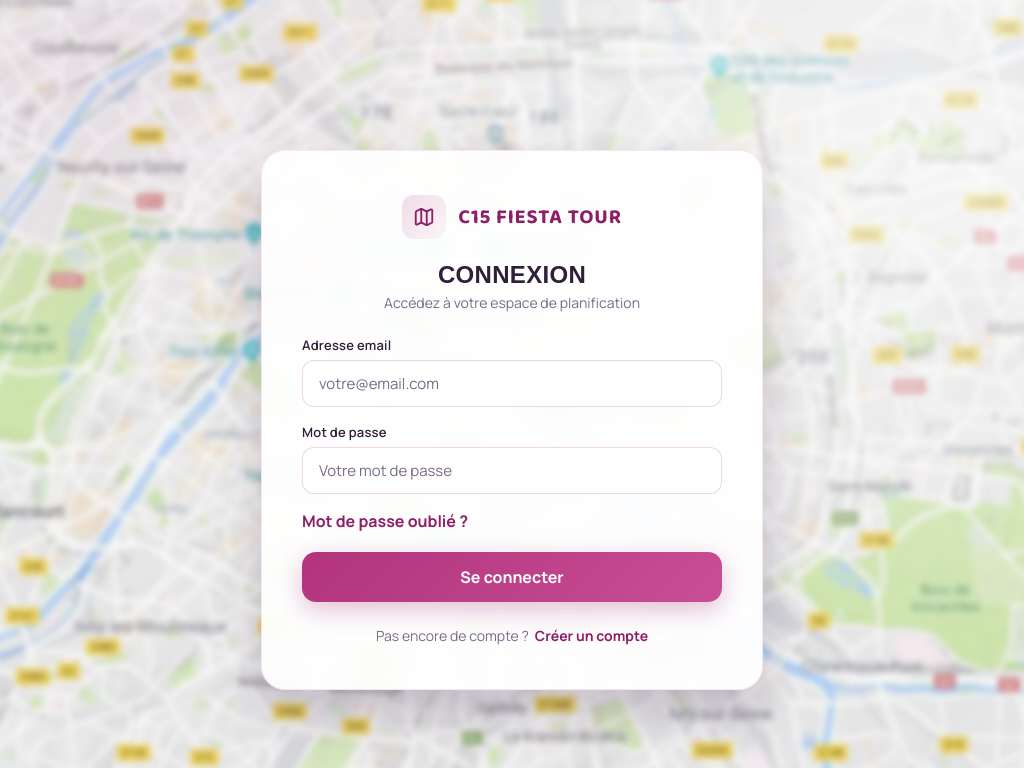
Test: LoginPage › désactive le bouton pendant le chargement
Type "test@example.com" into the field labelled "Adresse email". click: (512, 384)
box: [302, 360, 722, 407]
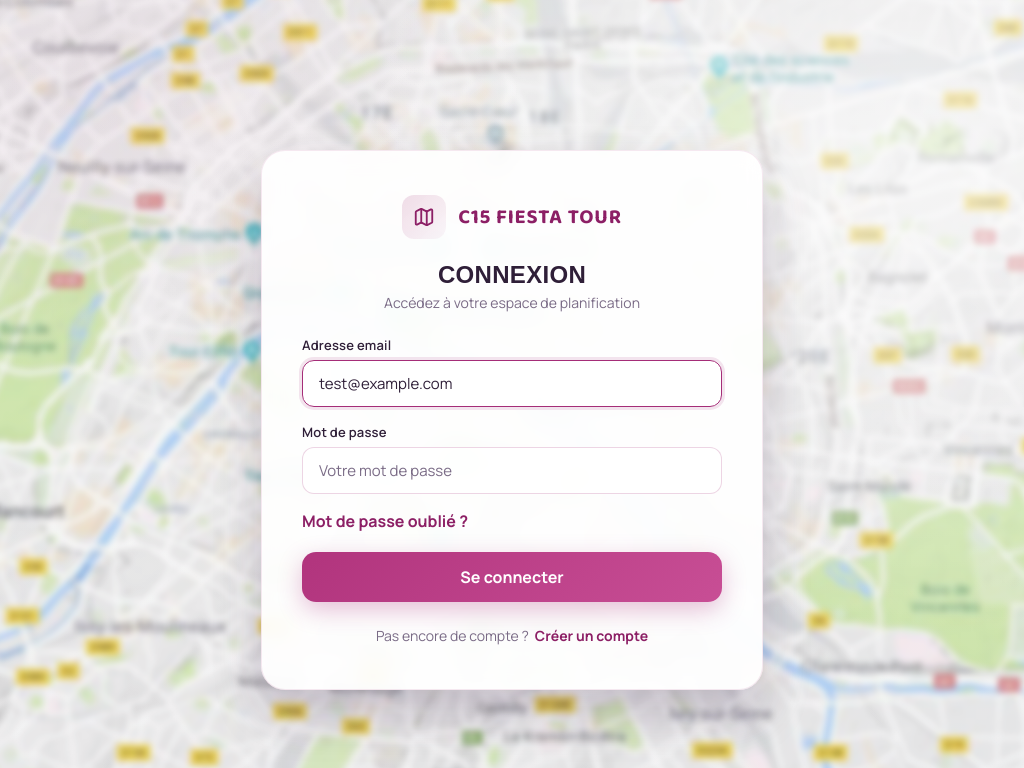
Type "password" into the password field labelled "Mot de passe". click: (512, 470)
box: [302, 447, 722, 494]
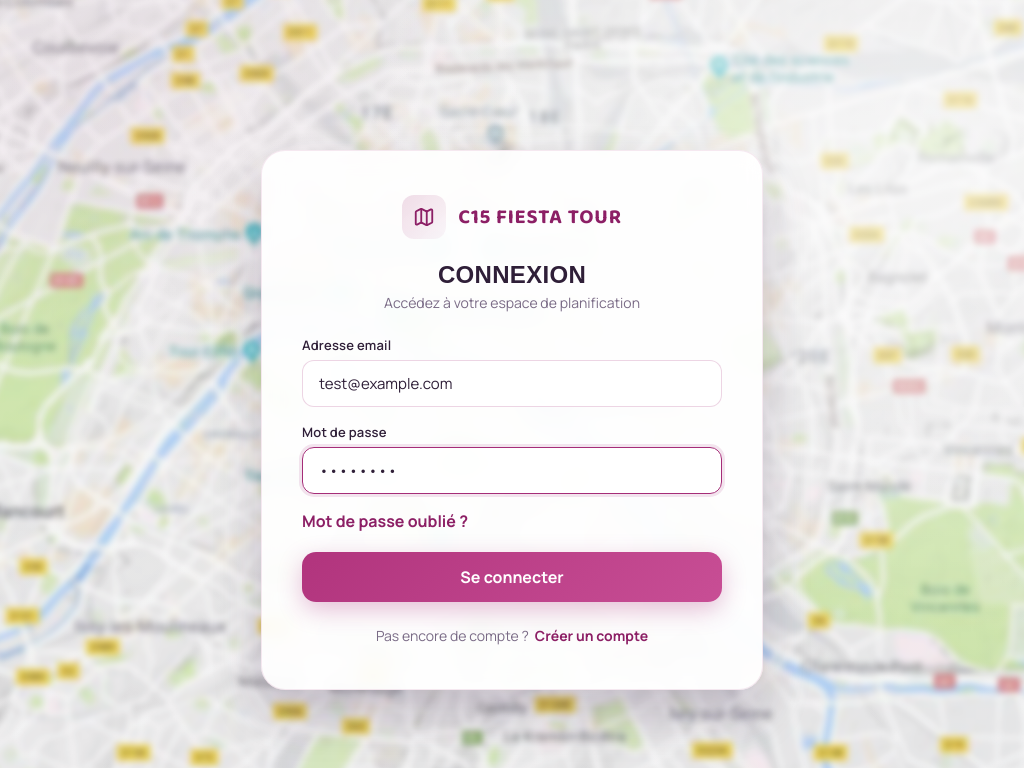
Click the button "Se connecter". click: (512, 577)
box: [302, 552, 722, 602]
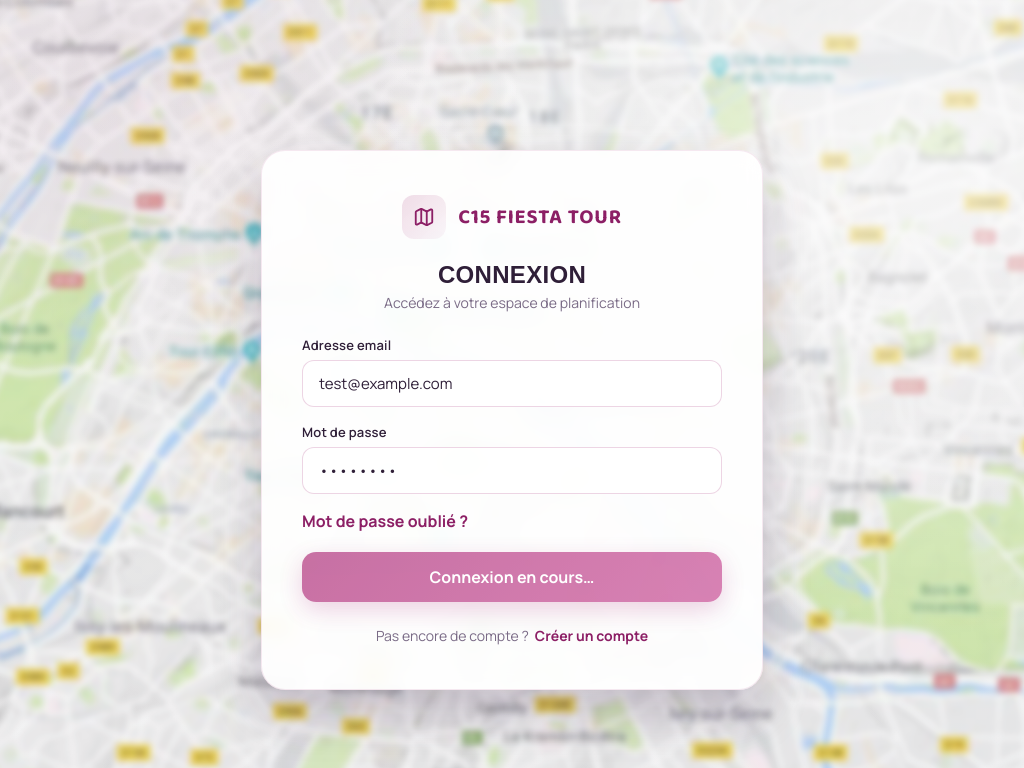
Check: the button "Connexion en cours…" is disabled, box [302, 552, 722, 602]
